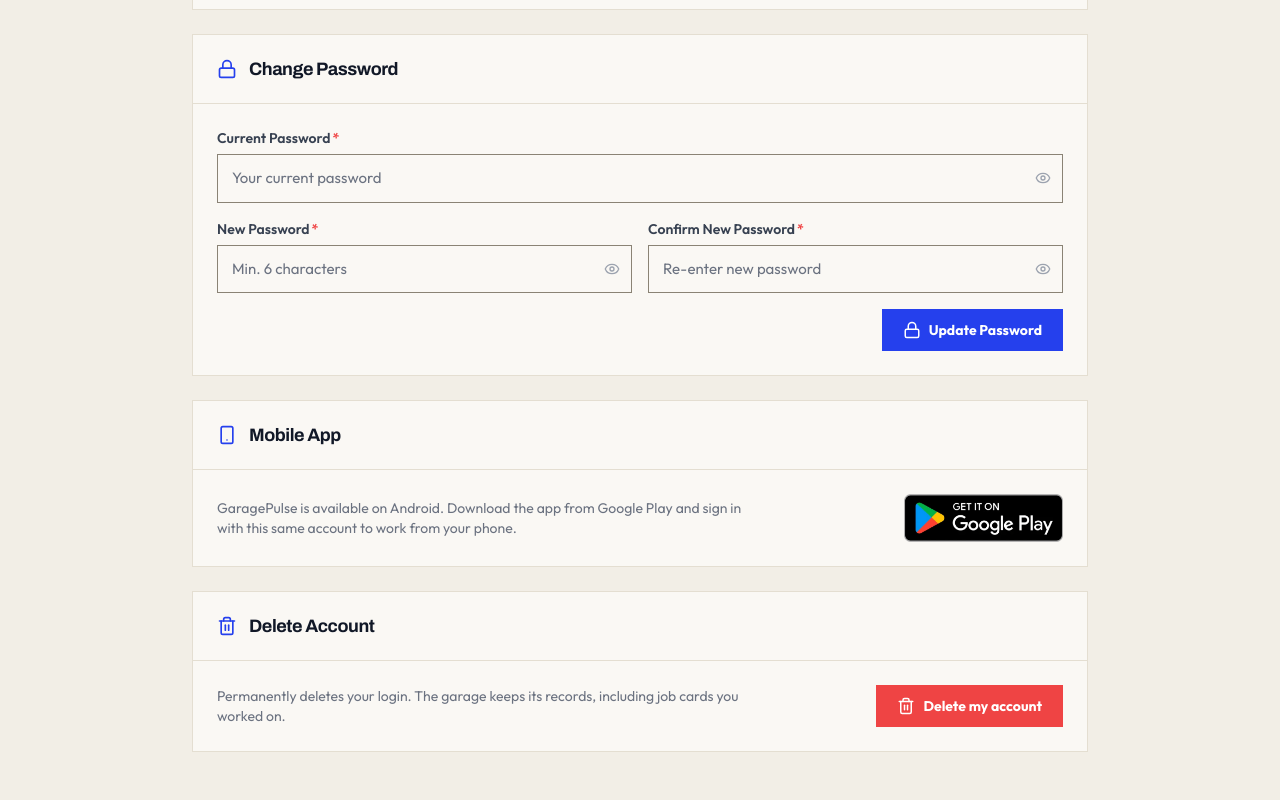
Settings — delete account › shows the server message on a wrong password and keeps the account
(page scrolled)
Step 1. Click the button "Delete my account" → (970, 706), box [876,685,1063,727]
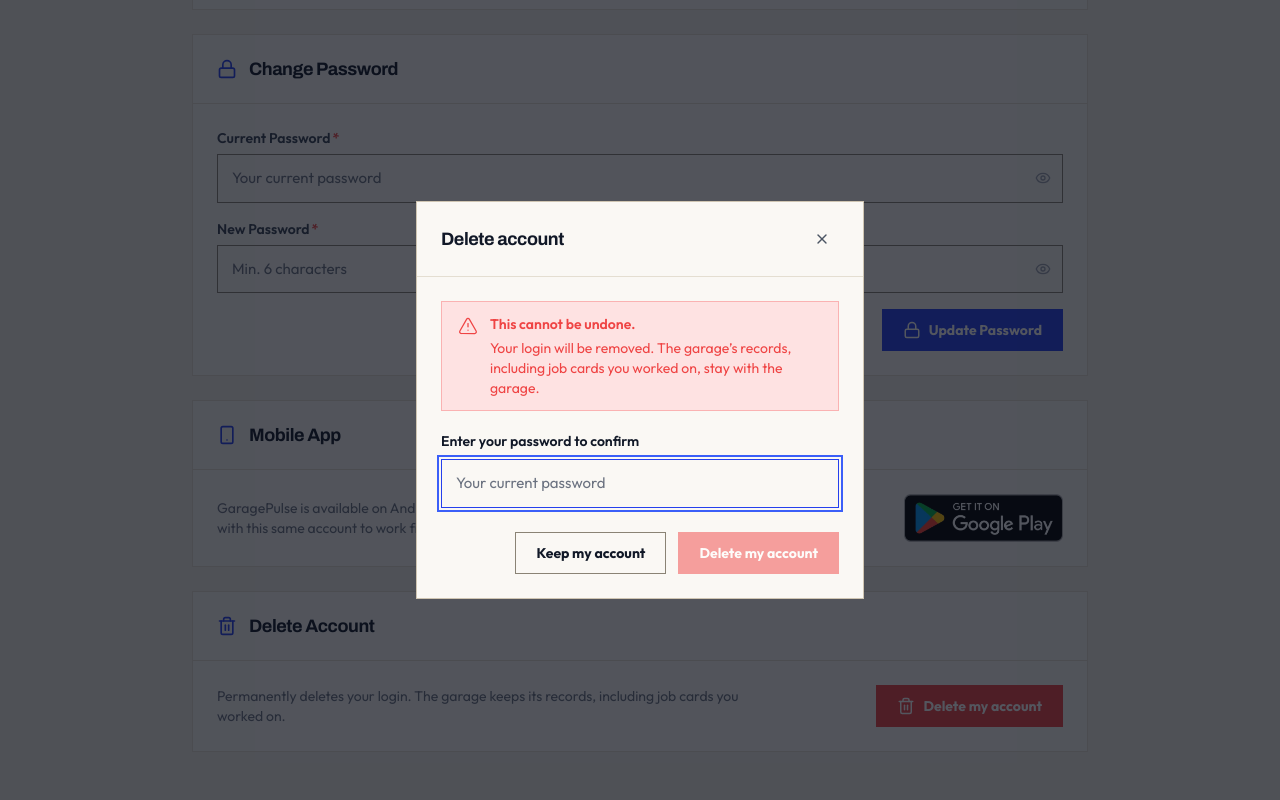
Expected: the text "Your login will be removed" is shown, [490,339,791,397]
Step 2. Type "wrong" into the password field labelled "Enter your password to confirm" → (640, 484), box [441,459,839,508]
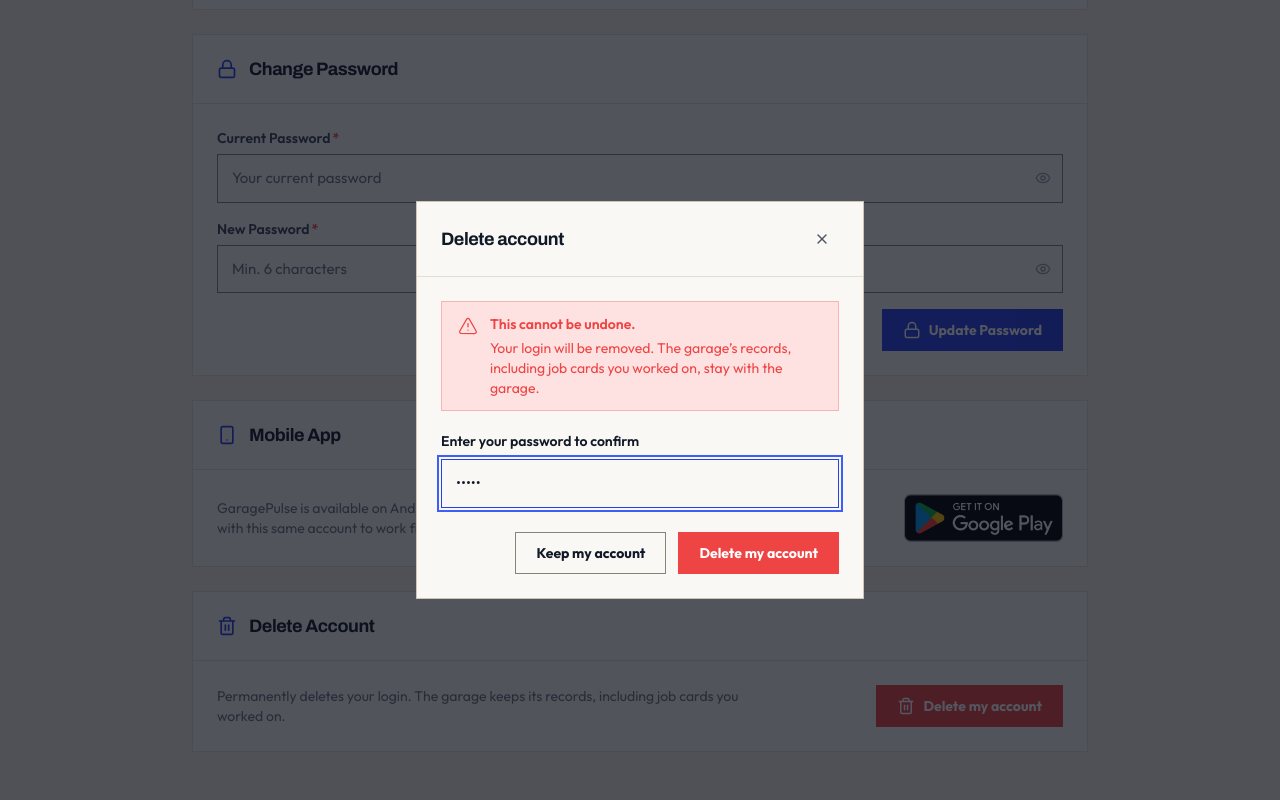
Step 3. Click the button "Delete my account" → (759, 553), box [678,532,839,574]
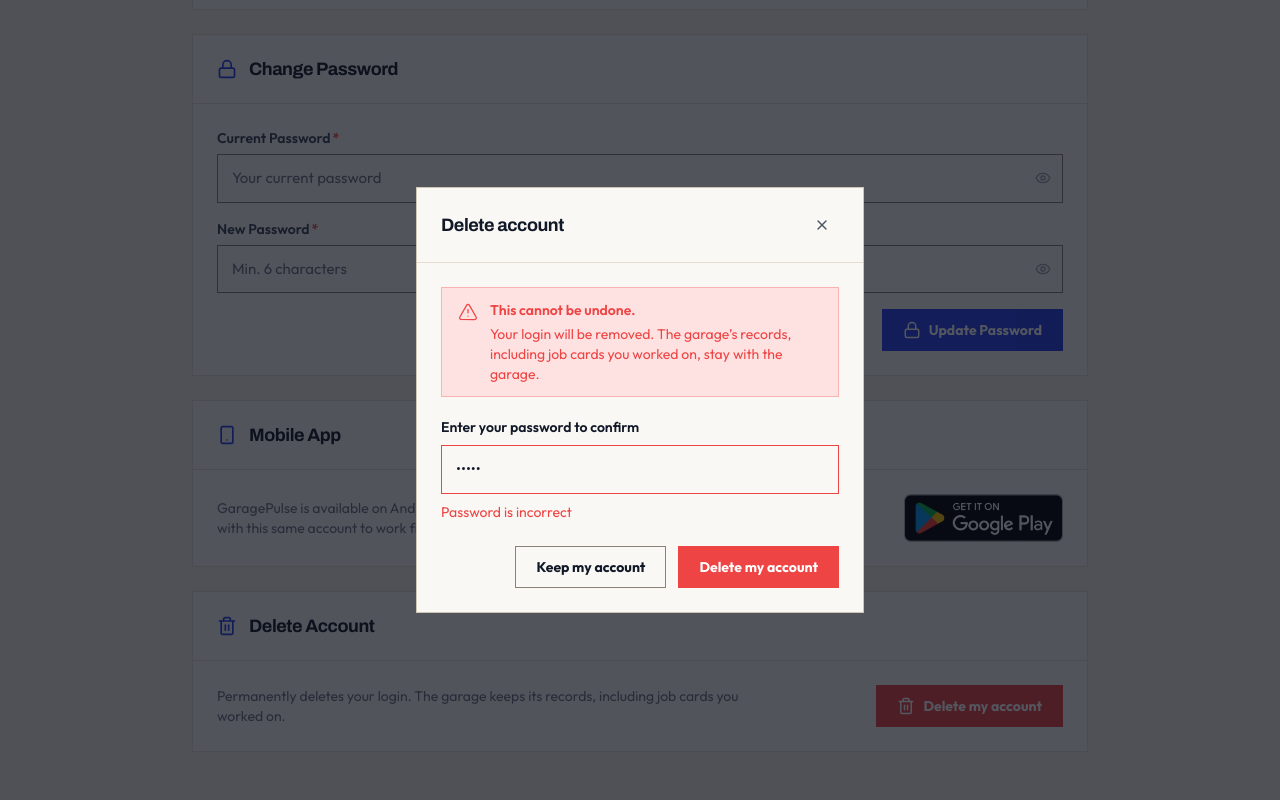
Expected: the button "Delete my account" is enabled, [678,546,839,588]
Expected: the message reads "Password is incorrect", [441,503,572,521]
